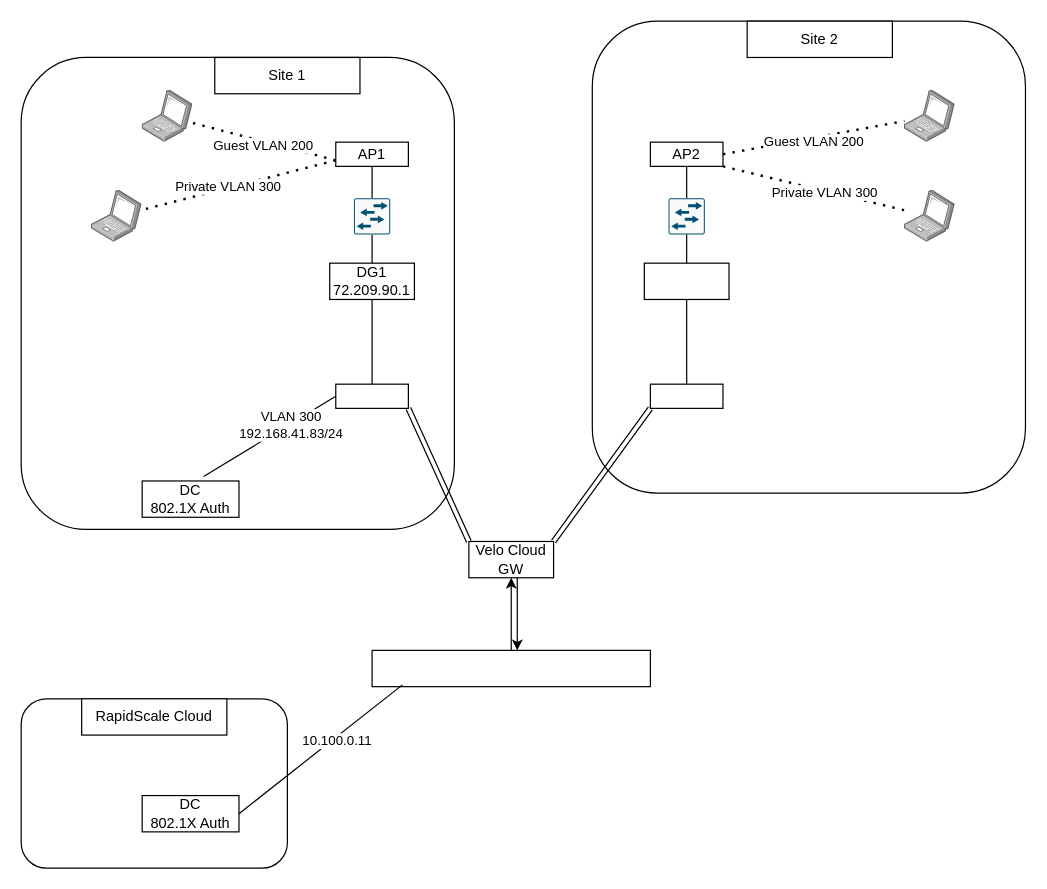
Image size: 1047x889. Some labels were removed from this diagram. Here are the shapes that lost their labels. From the top down, the centre of each, then its label:
At (x=686, y=280): "DG2 72.209.90.5".
At (x=371, y=395): "SD-WAN1".
At (x=686, y=395): "SD-WAN2".
At (x=510, y=668): "Cloud FW".
